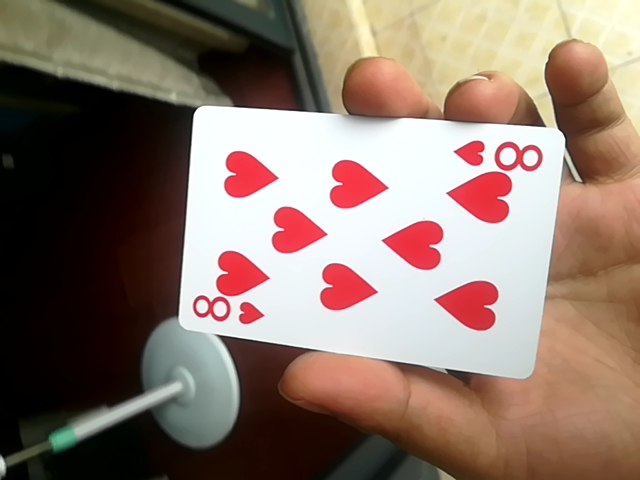hx 8: (171, 104, 563, 377)
